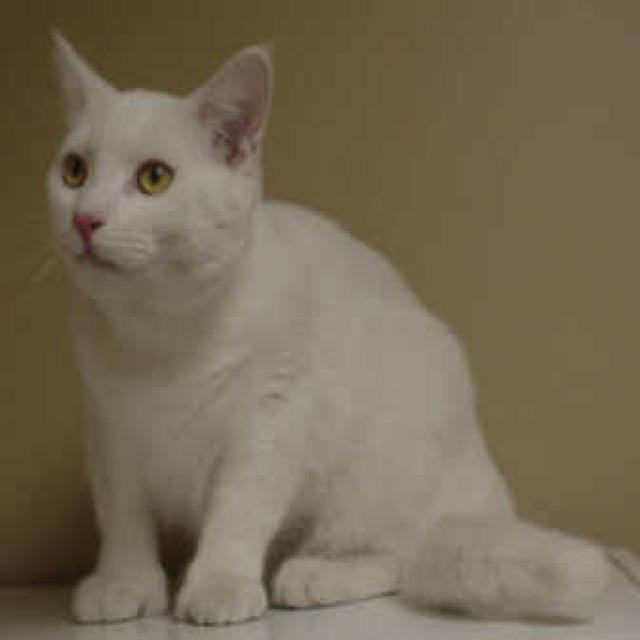cats: (47, 28, 608, 625)
